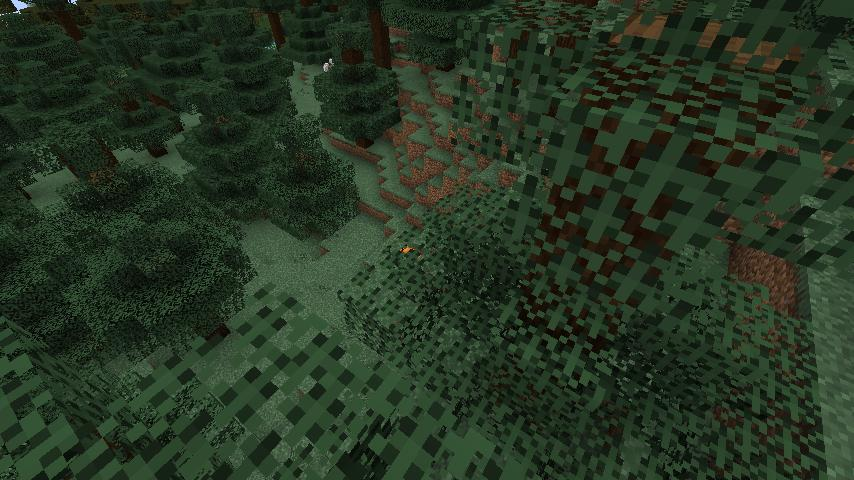fox: (398, 243, 426, 265)
wolf: (322, 62, 330, 73), (328, 58, 335, 66)
